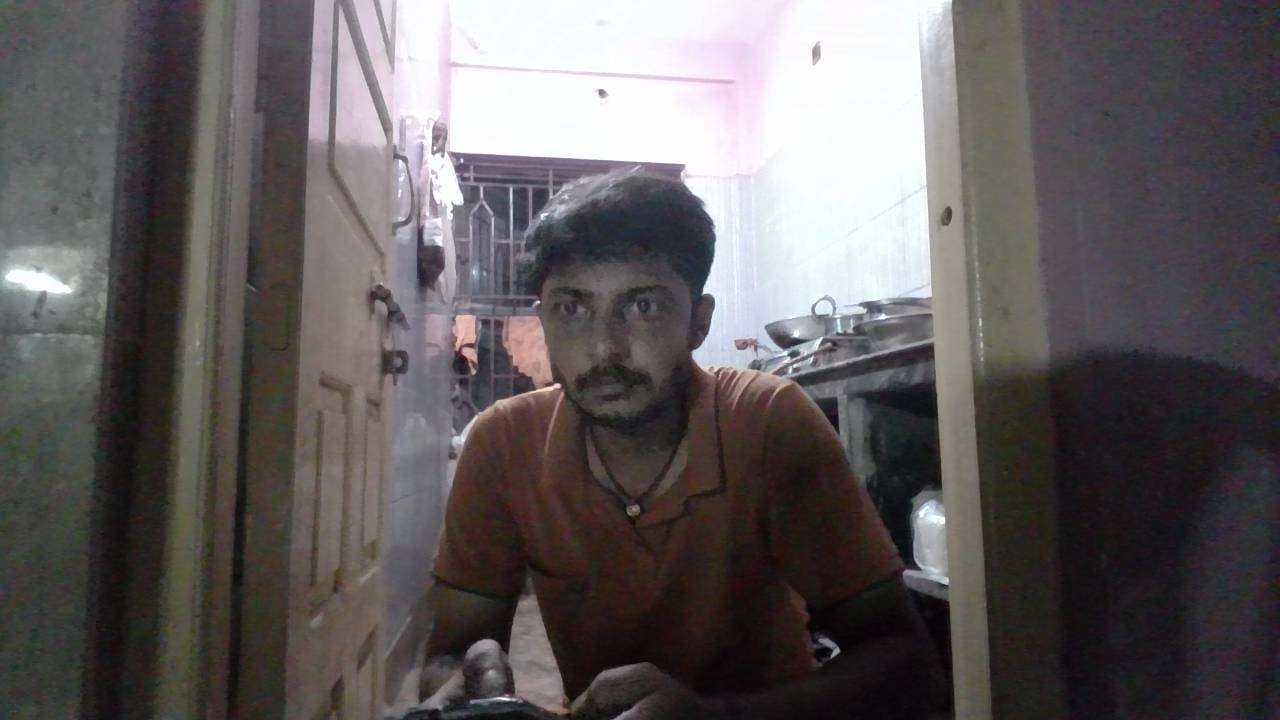red_box: (448, 406, 608, 554), (639, 432, 719, 526)
